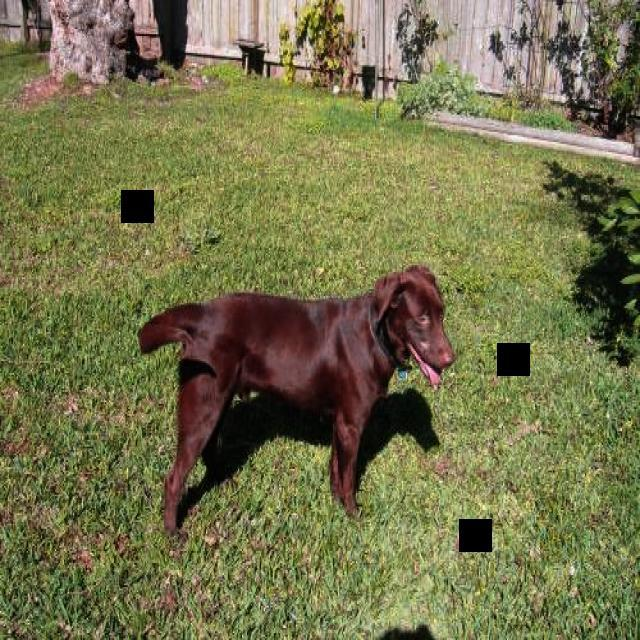adult_dog: (138, 264, 460, 531)
